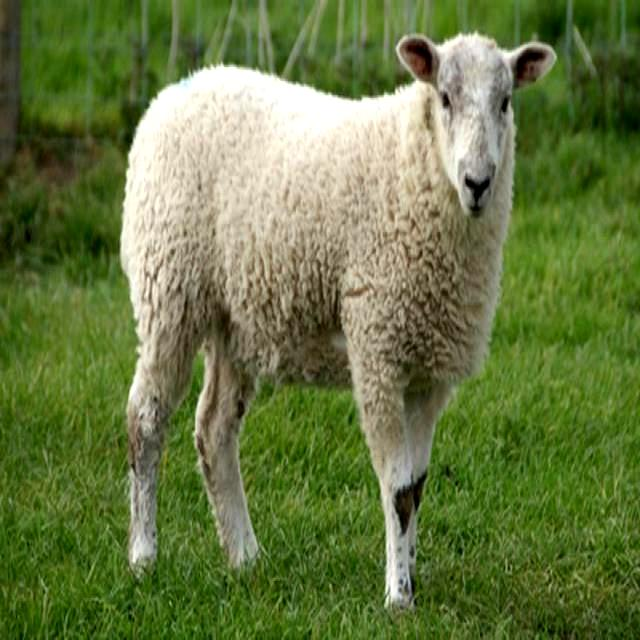sheep: (120, 28, 557, 620)
